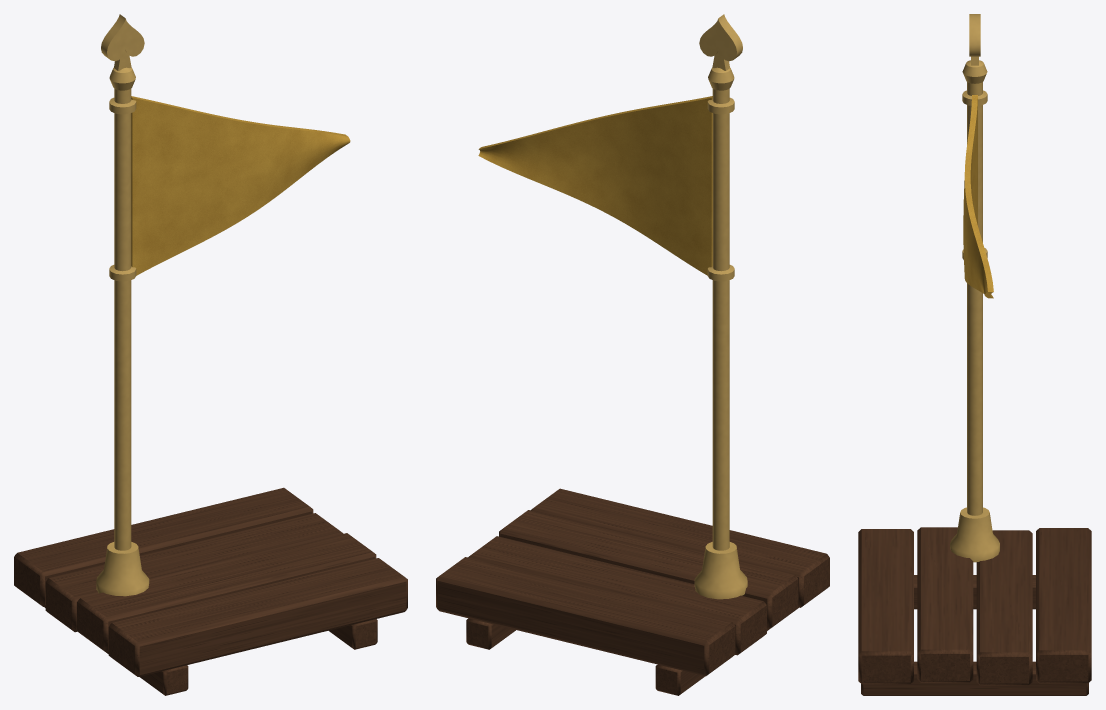
File: SM_FS_Pennant.glb
The picture shows the model from 3 angles, left to right: view 1: azimuth 30°, elevation 25°; view 2: azimuth 150°, elevation 25°; view 3: azimuth 270°, elevation 25°; orthographic projection. The views are drawn at different scales.
Parts seen in each view (by area): view 1: SM_FS_Pennant; view 2: SM_FS_Pennant; view 3: SM_FS_Pennant.
Part boxes in pixels (<box>): SM_FS_Pennant: <box>14,14,407,695</box>; SM_FS_Pennant: <box>436,14,829,695</box>; SM_FS_Pennant: <box>858,14,1091,695</box>.
Size of the model in its own units: 0.1338 by 0.2875 by 0.1025.
1 material, 1 textured.
